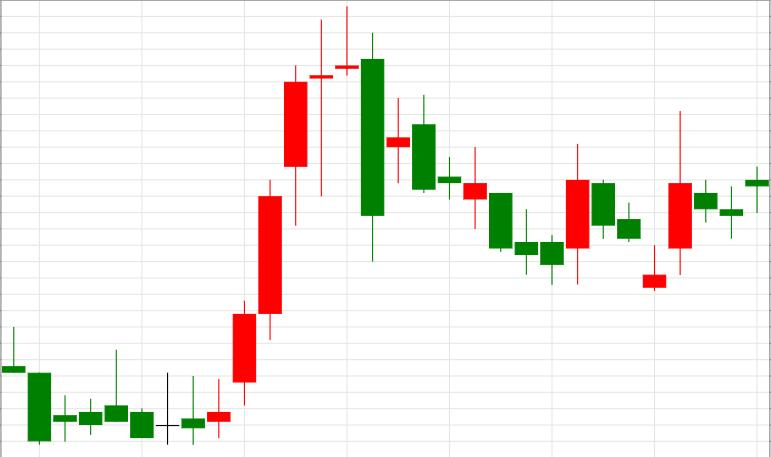bullish_engulfing_rise: (413, 94, 589, 285)
three_white_soldiers_rise: (3, 65, 307, 446)
